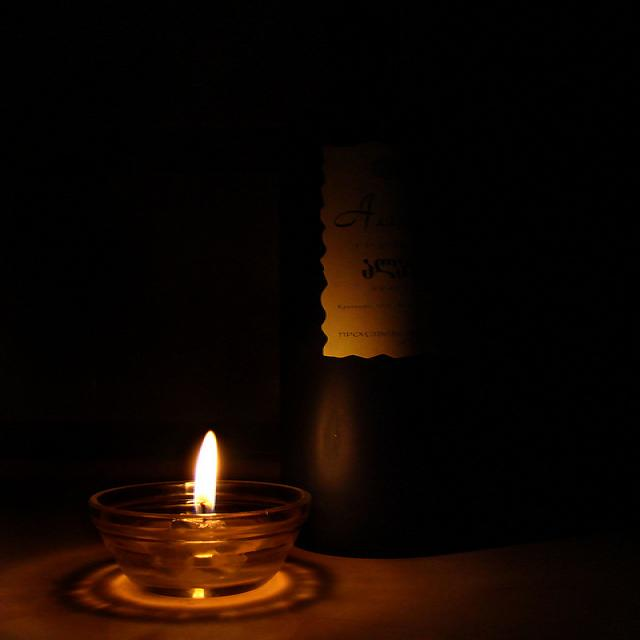Bottle: (257, 0, 510, 561)
Cup: (79, 478, 313, 598)
